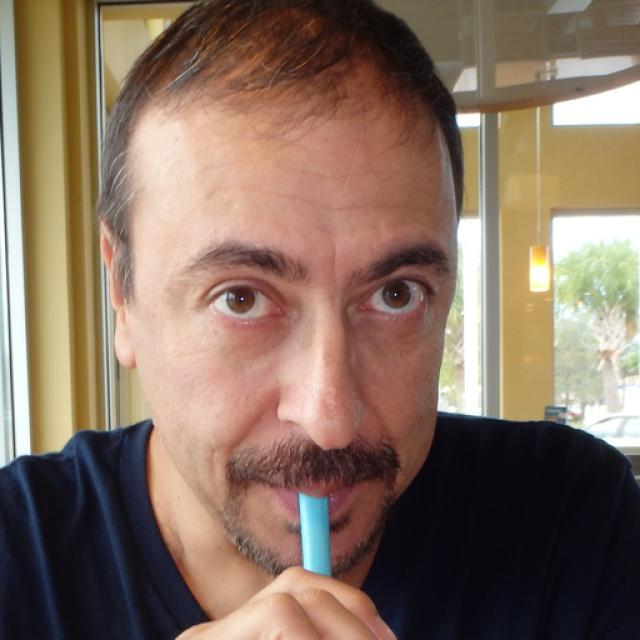content: (132, 88, 454, 588)
